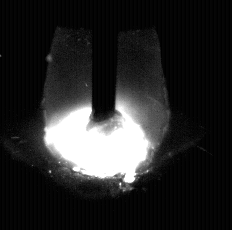arame: (92, 0, 117, 121)
poca: (42, 0, 168, 230)
